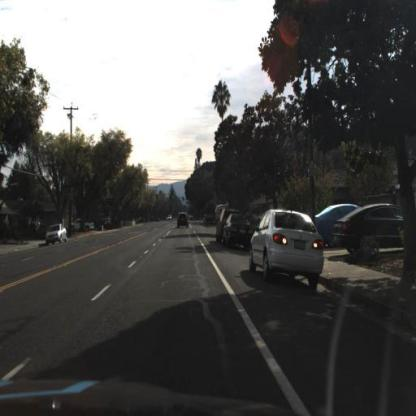car: (249, 208, 326, 293), (332, 201, 416, 260), (224, 212, 253, 253), (224, 216, 253, 247), (175, 210, 192, 232), (46, 227, 66, 245), (73, 218, 97, 232), (205, 211, 216, 229)
